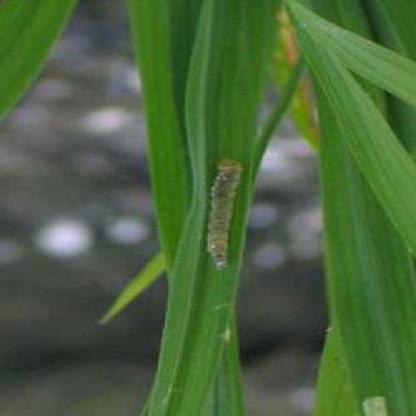leaf-folder: (188, 146, 258, 278)
